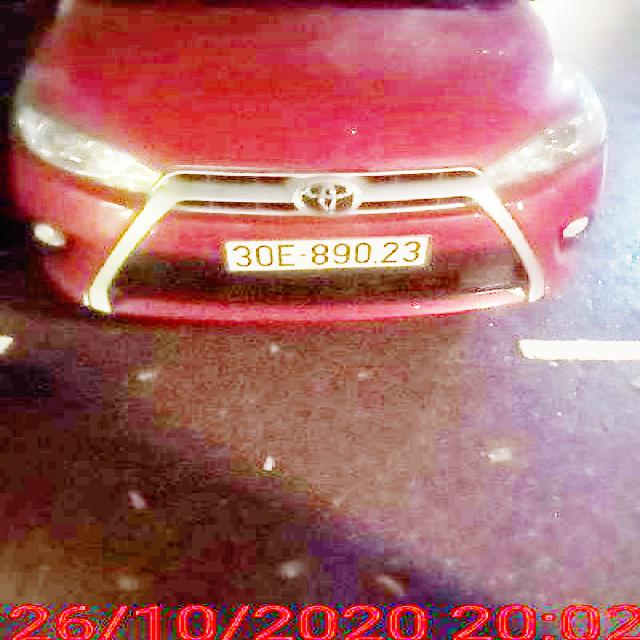license_plate: (228, 240, 429, 271)
